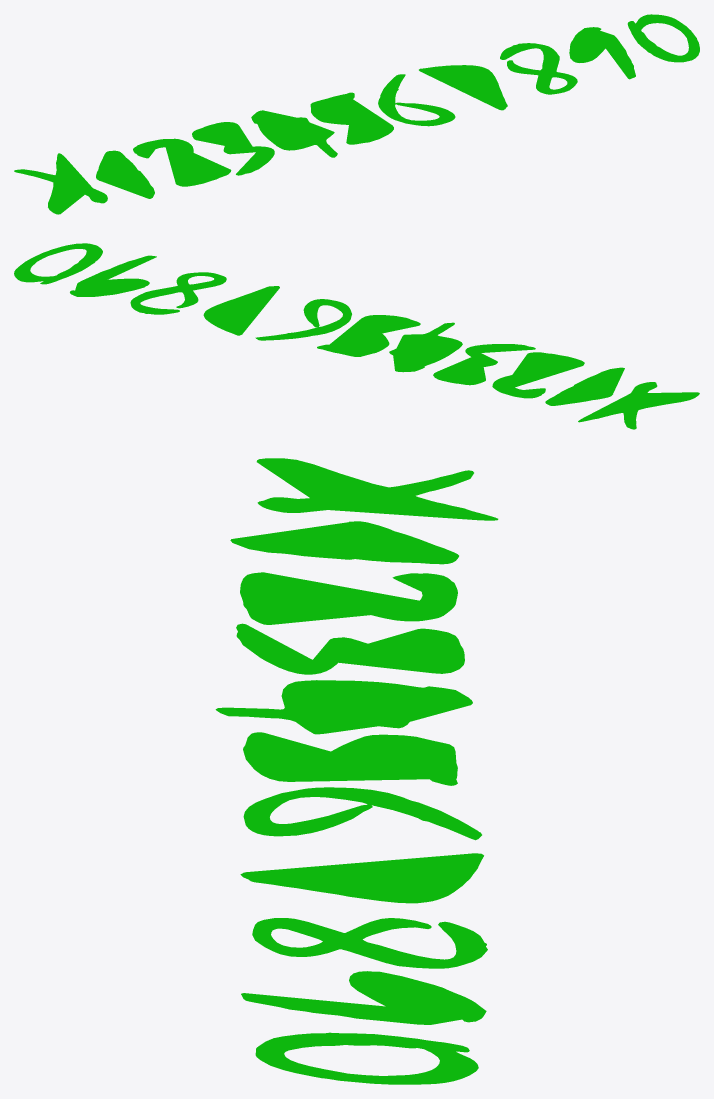
The model's file is numbers.fbx.
The picture shows the model from 3 angles, top to bottom: view 1: azimuth 30°, elevation 25°; view 2: azimuth 150°, elevation 25°; view 3: azimuth 270°, elevation 25°; orthographic projection. The views are drawn at different scales.
Visible parts, largest first — view 1: Group4, Group6, Group3, Group7, Group8, Group2, Group10, Group5, Group1, Group9, Group11; view 2: Group4, Group6, Group3, Group7, Group8, Group2, Group10, Group5, Group1, Group9, Group11; view 3: Group4, Group3, Group6, Group7, Group8, Group2, Group10, Group1, Group5, Group9, Group11.
Part boxes in pixels (x1=…): Group4: x1=310, y1=92, x2=393, y2=144; Group6: x1=133, y1=138, x2=231, y2=186; Group3: x1=251, y1=110, x2=337, y2=157; Group7: x1=419, y1=65, x2=507, y2=110; Group8: x1=14, y1=153, x2=107, y2=214; Group2: x1=192, y1=122, x2=274, y2=175; Group10: x1=569, y1=27, x2=635, y2=79; Group5: x1=500, y1=43, x2=577, y2=94; Group1: x1=96, y1=150, x2=154, y2=198; Group9: x1=627, y1=14, x2=699, y2=62; Group11: x1=378, y1=74, x2=455, y2=126; Group4: x1=317, y1=315, x2=420, y2=356; Group6: x1=492, y1=352, x2=584, y2=398; Group3: x1=389, y1=322, x2=462, y2=372; Group7: x1=203, y1=286, x2=279, y2=335; Group8: x1=578, y1=382, x2=699, y2=429; Group2: x1=433, y1=344, x2=535, y2=385; Group10: x1=70, y1=255, x2=156, y2=296; Group5: x1=130, y1=272, x2=226, y2=314; Group1: x1=545, y1=367, x2=624, y2=405; Group9: x1=14, y1=243, x2=102, y2=284; Group11: x1=255, y1=299, x2=351, y2=340; Group4: x1=243, y1=732, x2=457, y2=785; Group3: x1=215, y1=680, x2=472, y2=734; Group6: x1=240, y1=572, x2=457, y2=624; Group7: x1=240, y1=853, x2=483, y2=903; Group8: x1=256, y1=458, x2=498, y2=520; Group2: x1=236, y1=623, x2=464, y2=674; Group10: x1=241, y1=971, x2=486, y2=1024; Group1: x1=230, y1=521, x2=458, y2=564; Group5: x1=252, y1=918, x2=487, y2=968; Group9: x1=255, y1=1032, x2=478, y2=1084; Group11: x1=243, y1=787, x2=481, y2=840.
Bounding box in the file's own units: 178 × 0 × 33.94.
